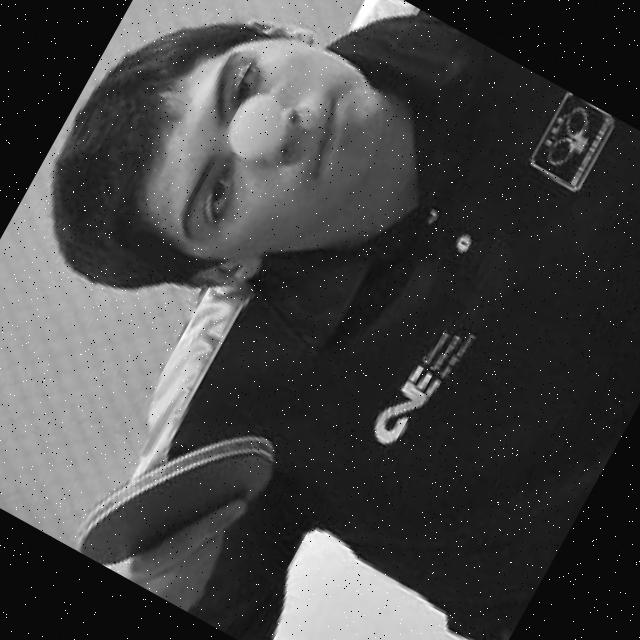ping-pong-ball: (214, 83, 298, 171)
